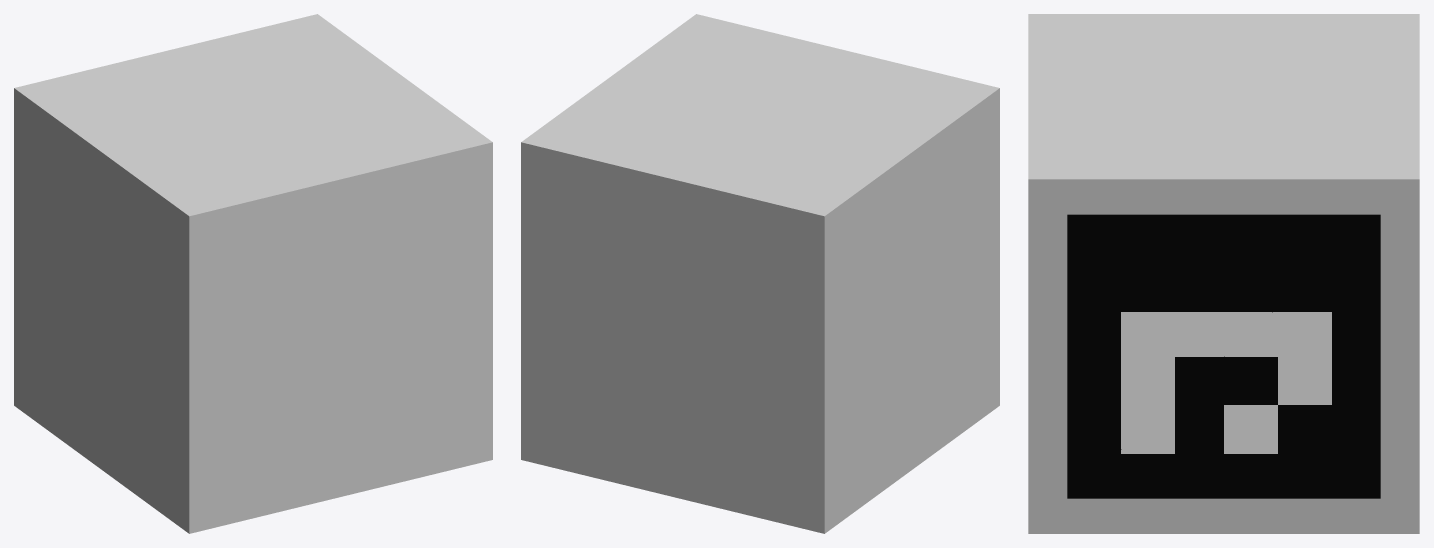
File: robot_tag_1.dae
3 renders of one model, left to right at view 1: azimuth 30°, elevation 25°; view 2: azimuth 150°, elevation 25°; view 3: azimuth 270°, elevation 25°, orthographic. The views are drawn at different scales.
Visible parts, largest first — view 1: Cube; view 2: Cube; view 3: Cube.
Part boxes in pixels (box(x1,y1,x2,y2)): Cube: box(14, 14, 492, 533); Cube: box(521, 14, 999, 533); Cube: box(1028, 14, 1419, 533).
Bounding box in the file's own units: 0.2 × 0.2 × 0.2.
